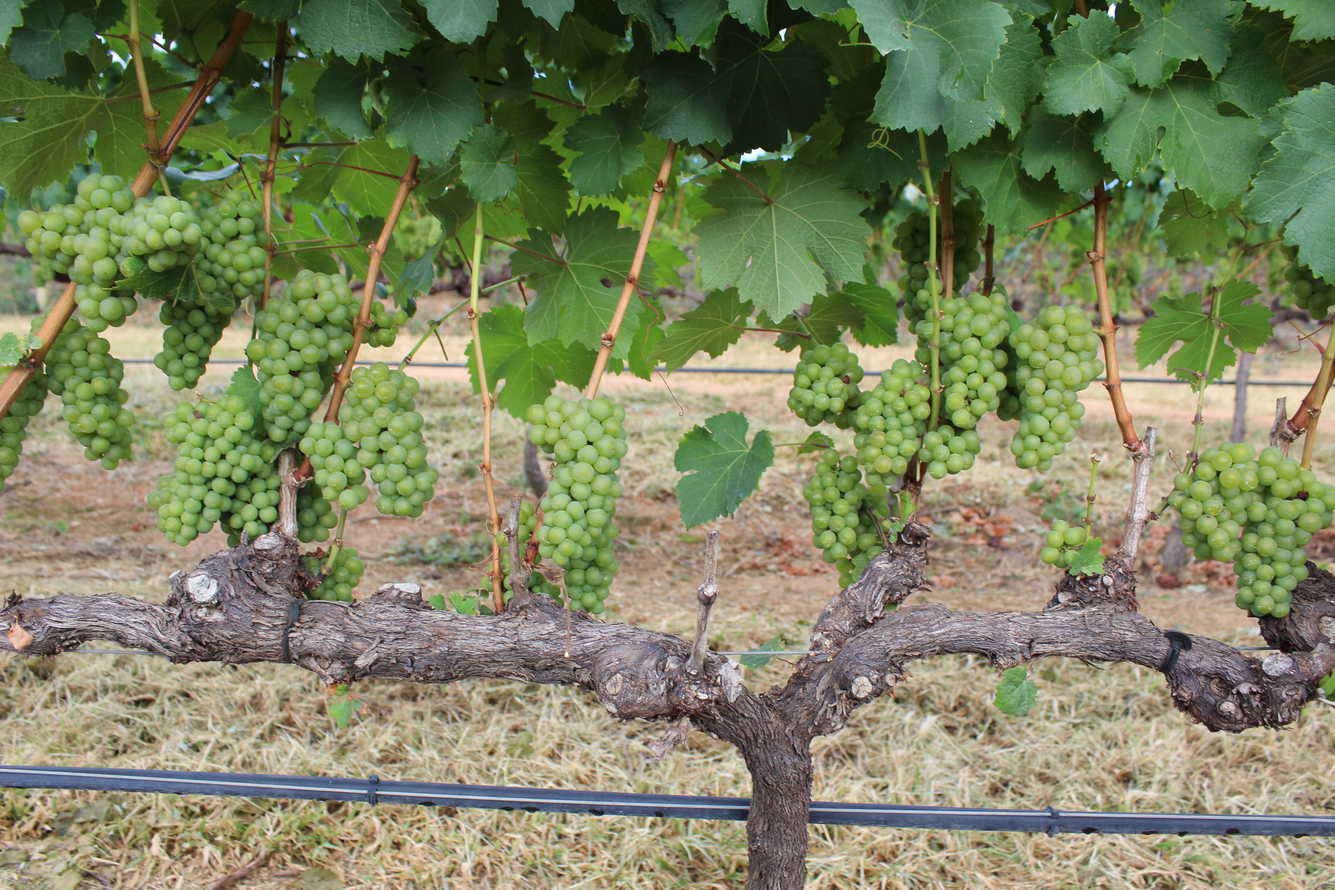leaf: (695, 164, 867, 317), (1095, 74, 1265, 207), (852, 0, 1012, 132), (510, 207, 638, 350), (1247, 83, 1335, 280), (1135, 279, 1273, 387), (478, 304, 596, 420), (674, 412, 774, 527), (955, 129, 1062, 233), (385, 52, 483, 164), (1122, 0, 1233, 86), (1043, 12, 1133, 115), (640, 51, 732, 144), (652, 288, 749, 372), (299, 0, 423, 62), (1023, 106, 1111, 193), (563, 105, 644, 196), (1215, 26, 1289, 118), (8, 0, 94, 79), (332, 140, 409, 217), (312, 56, 372, 140), (1158, 189, 1229, 258), (459, 124, 518, 202), (833, 281, 899, 347), (1250, 0, 1335, 41), (421, 0, 498, 44), (659, 0, 728, 46), (994, 665, 1037, 716), (226, 365, 263, 418), (612, 299, 642, 359), (738, 637, 785, 669), (1068, 537, 1105, 576), (0, 332, 41, 367), (523, 0, 574, 28), (797, 431, 834, 455), (467, 343, 480, 393), (640, 257, 654, 289), (747, 165, 762, 175), (433, 59, 436, 65), (439, 54, 446, 55), (395, 0, 397, 2)
